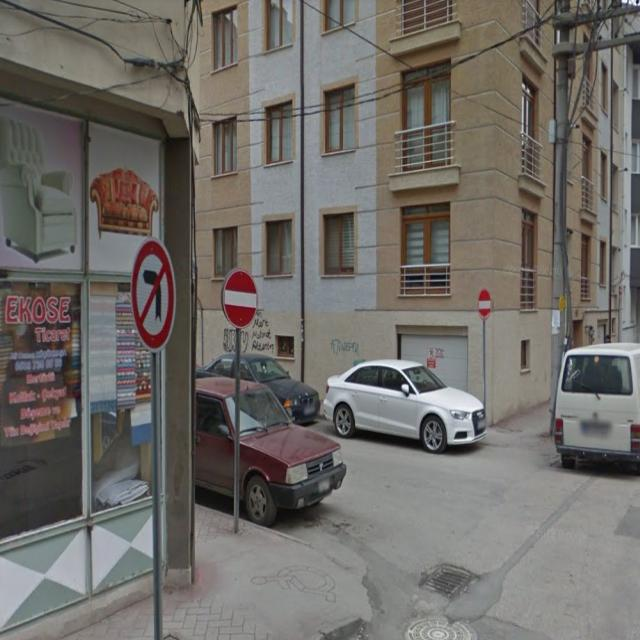girisyok: (224, 269, 259, 326), (478, 289, 491, 319)
soladonulmez: (131, 238, 175, 352)
